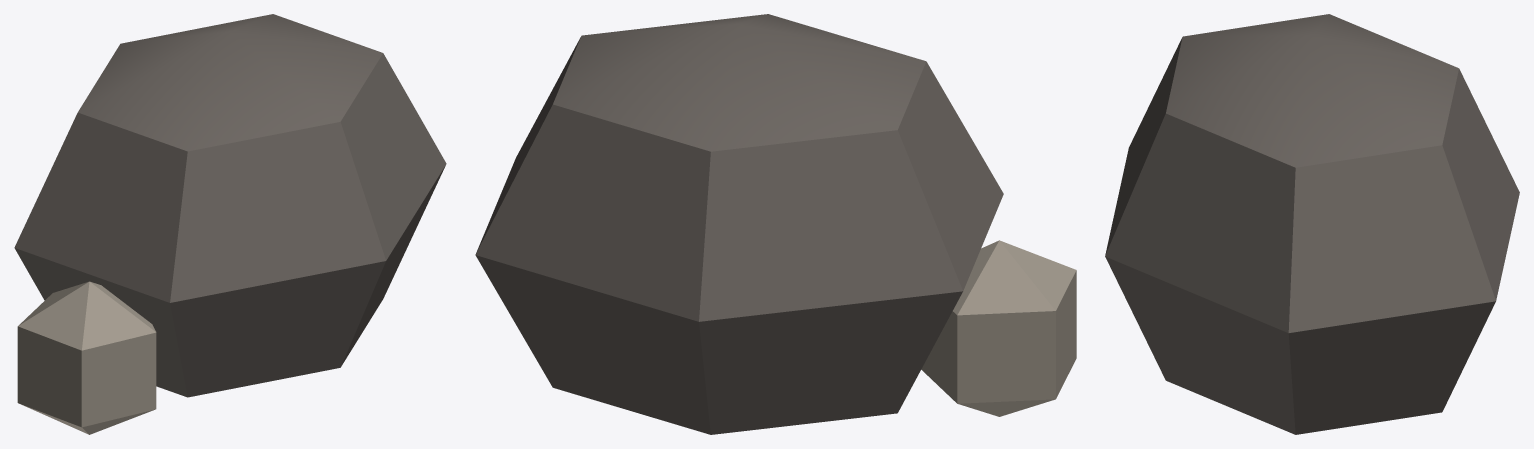
The model's file is PR_Nature_Kaya2.fbx.
The picture shows the model from 3 angles, left to right: view 1: azimuth 30°, elevation 25°; view 2: azimuth 150°, elevation 25°; view 3: azimuth 270°, elevation 25°; orthographic projection. The views are drawn at different scales.
Visible parts, largest first — view 1: PR_Nature_Kaya2; view 2: PR_Nature_Kaya2; view 3: PR_Nature_Kaya2.
Part boxes in pixels (bbox=[...]): PR_Nature_Kaya2: bbox=[14, 14, 446, 434]; PR_Nature_Kaya2: bbox=[475, 14, 1076, 434]; PR_Nature_Kaya2: bbox=[1105, 14, 1519, 434].
Size of the model in its own units: 1.84 by 1.36 by 1.35.
